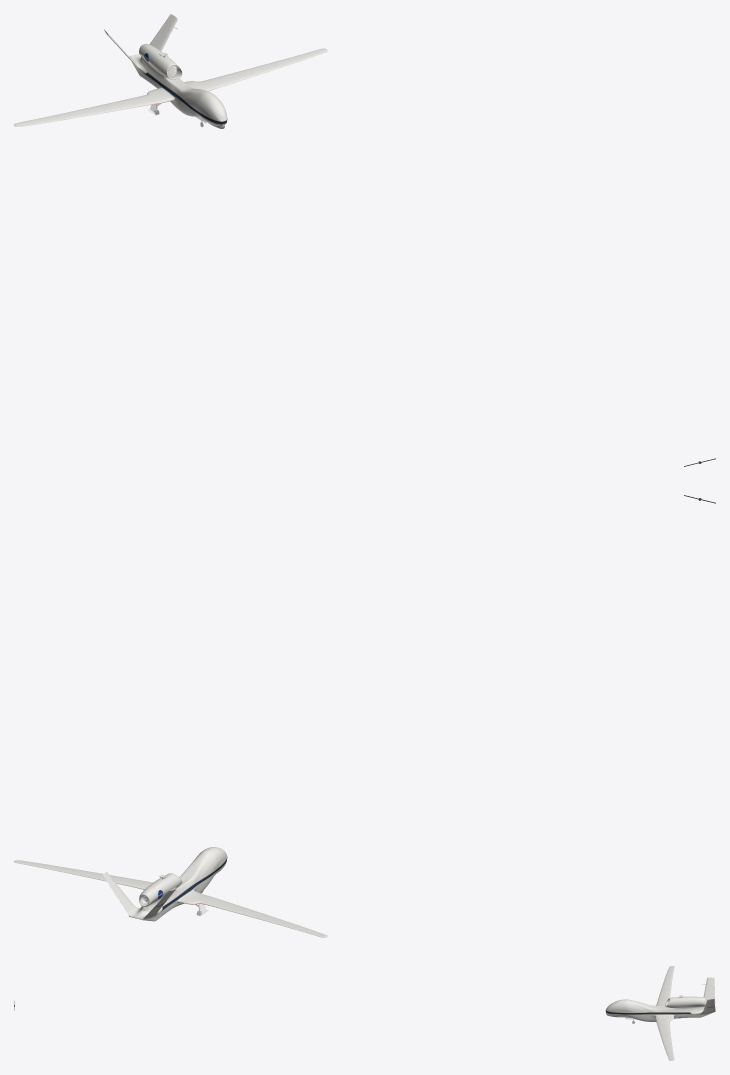
Rendered from globalhawk.glb.
3 renders of one model, top to bottom at view 1: azimuth 30°, elevation 25°; view 2: azimuth 150°, elevation 25°; view 3: azimuth 270°, elevation 25°, orthographic. The views are drawn at different scales.
Visible parts, largest first — view 1: GH_BODY; view 2: GH_BODY; view 3: GH_BODY.
Boxes of the visible parts, x1,y1,x2,y2 form: GH_BODY: (14,14,327,128); GH_BODY: (14,847,327,937); GH_BODY: (605,966,715,1060).
Bounding box in the file's own units: 35.4 × 6.33 × 111.
Materials: 7 (2 with a texture image).
